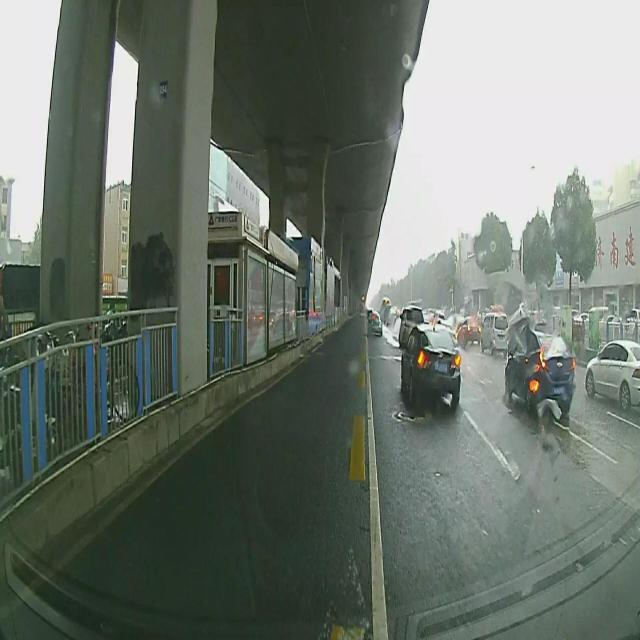car: (507, 318, 572, 408), (400, 334, 460, 400), (586, 340, 638, 406), (368, 310, 382, 336)
